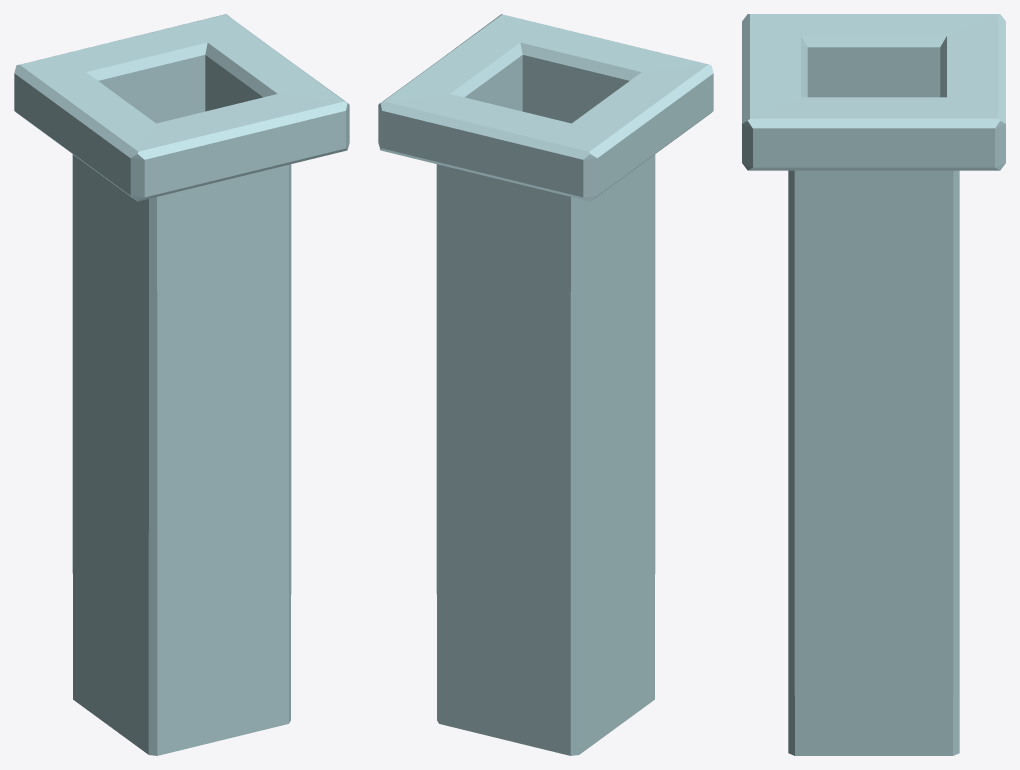
File: PipeGlassModel.fbx
3 renders of one model, left to right at view 1: azimuth 30°, elevation 25°; view 2: azimuth 150°, elevation 25°; view 3: azimuth 270°, elevation 25°, orthographic. The views are drawn at different scales.
Visible parts, largest first — view 1: Cube; view 2: Cube; view 3: Cube.
Part boxes in pixels (left/top/right/bottom): Cube: left=14, top=14, right=349, bottom=755; Cube: left=378, top=14, right=713, bottom=755; Cube: left=742, top=14, right=1005, bottom=755.
Bounding box in the file's own units: 308 × 841 × 308.
